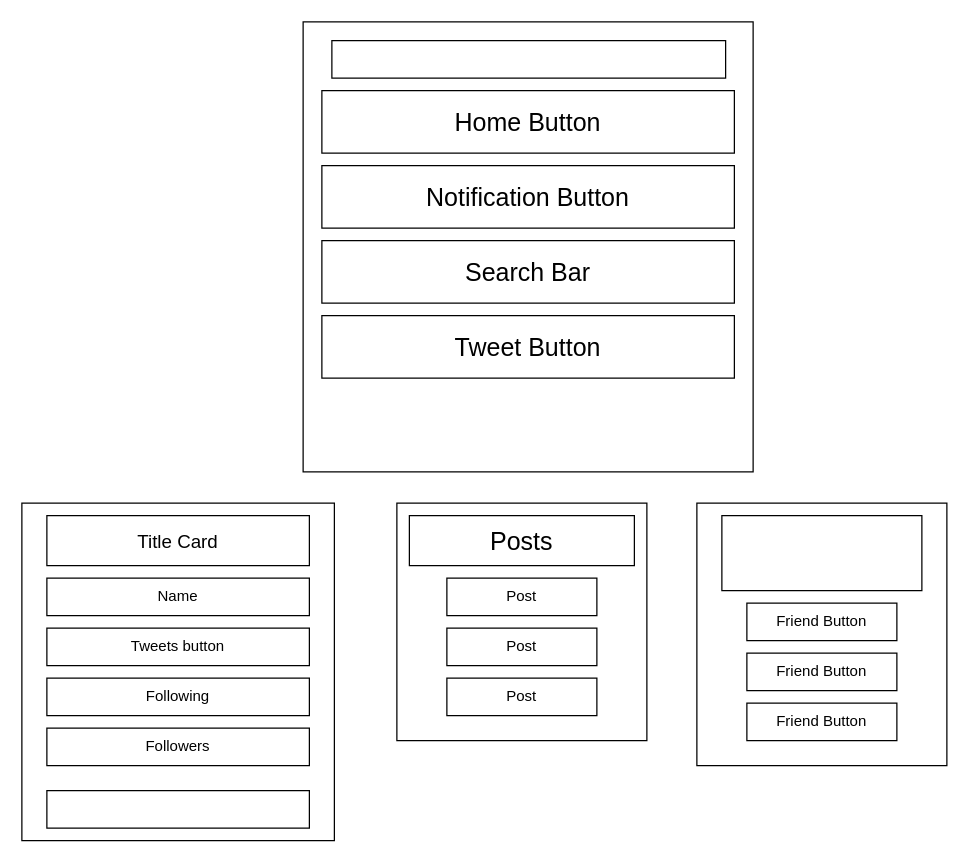
This 969x863 diagram has some shape labels left out. The centre of each missing label's shape, as x and y in pixels:
"Friend Buttons" belongs at [821,552].
"Header" belongs at [528,58].
"Wall Of Text" belongs at [177,808].
